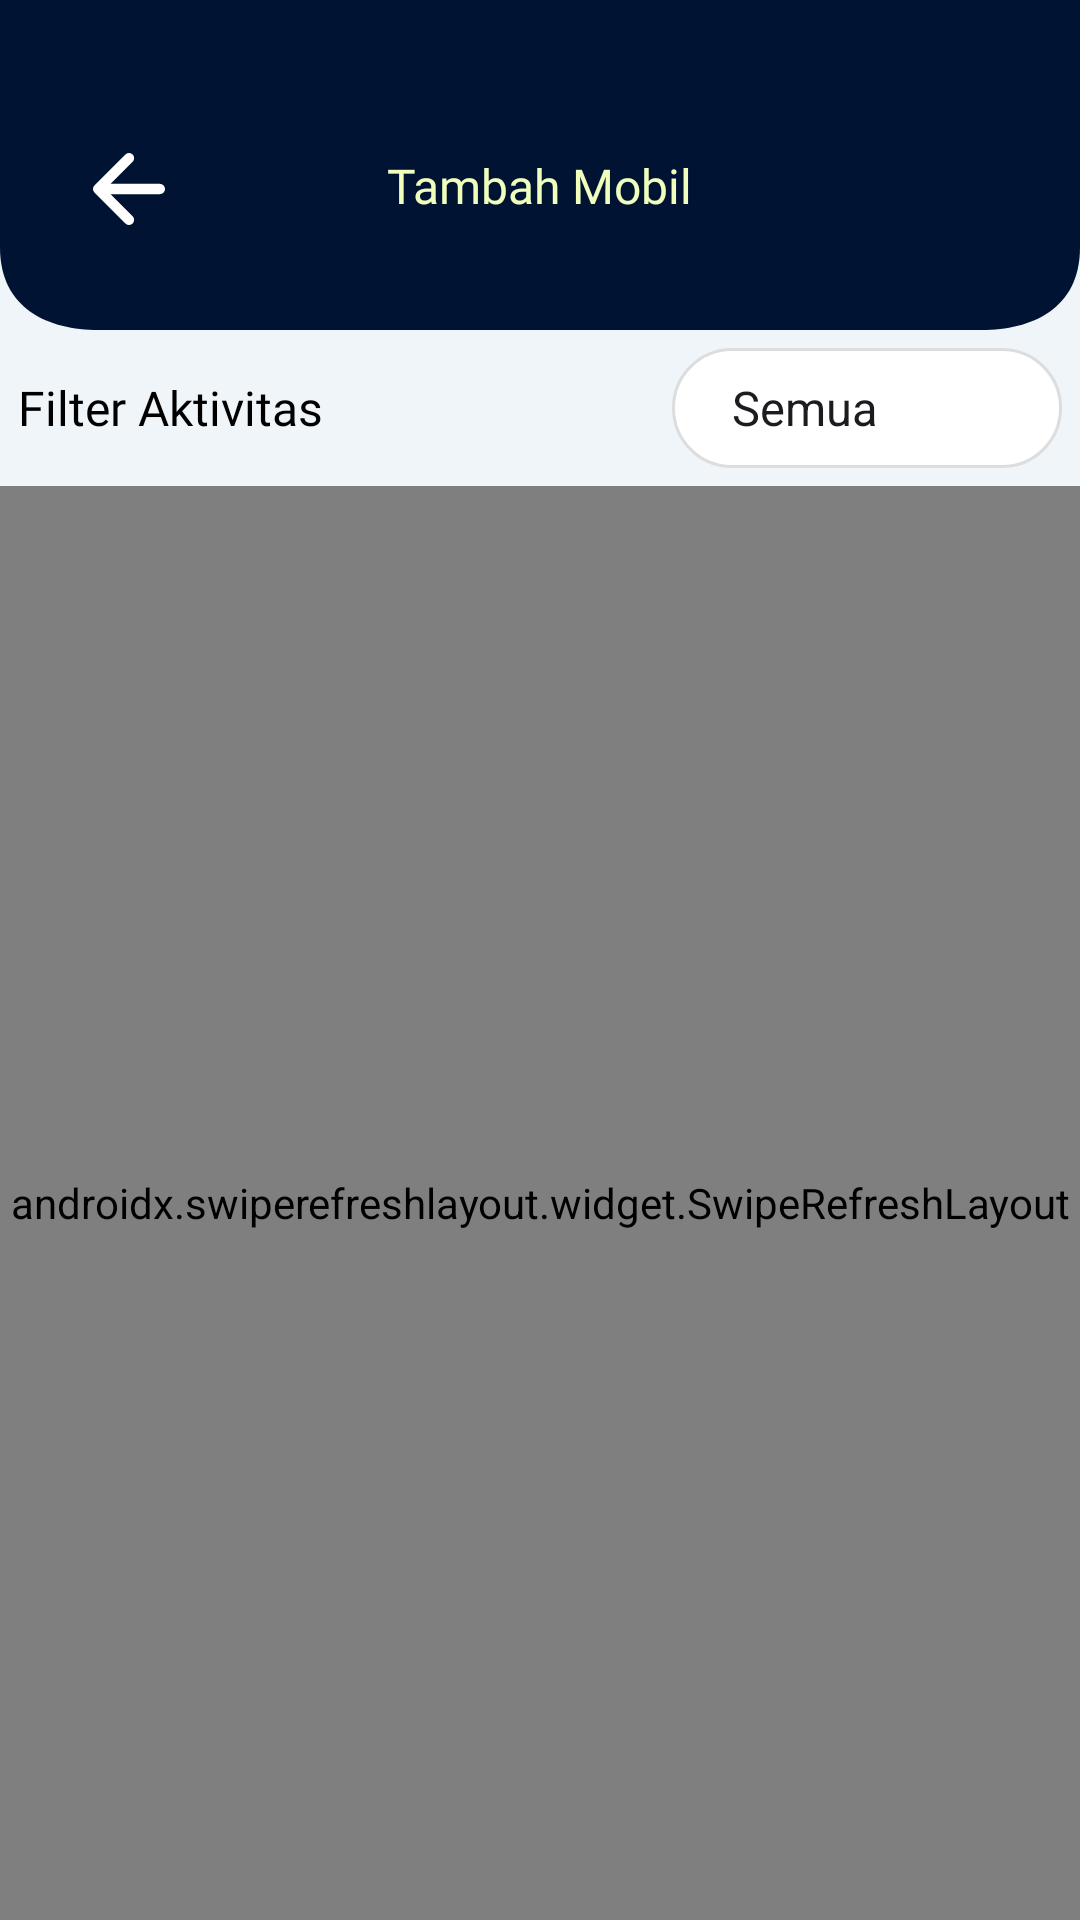

Icons on this 1080 × 1920 Android screen, each with its box as (x1, y1, x2, y2):
back: (93, 153, 165, 225)
